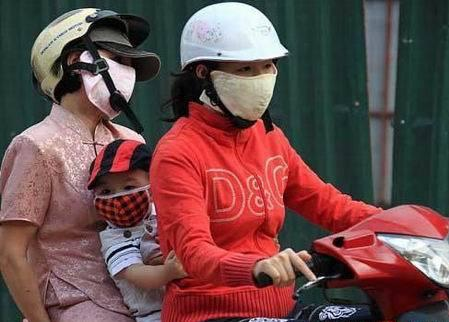OK: (77, 50, 144, 119), (210, 63, 278, 124), (93, 175, 150, 229)
